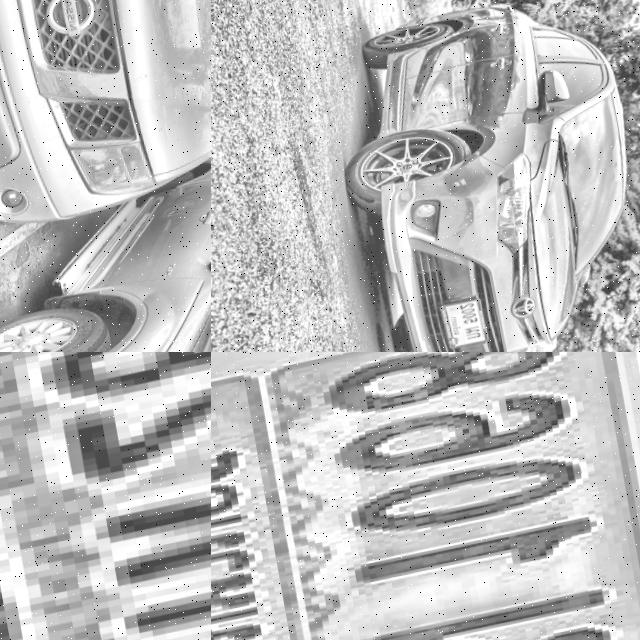license-plate: (211, 352, 640, 640), (0, 352, 211, 640), (431, 293, 494, 352)
